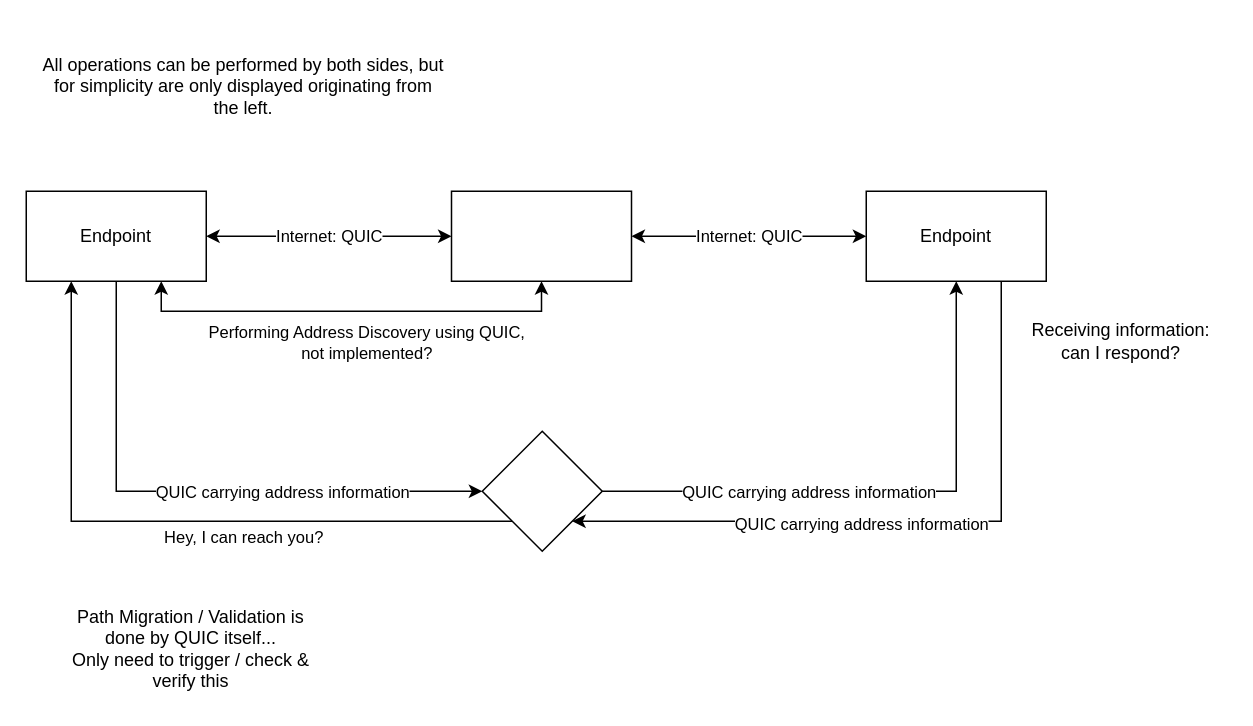
Some shapes in this 1253 by 726 pixel diagram are drawn without their labels. Here are the shapes that lost their labels. From the top down, the centre of each, then its label:
At pixel 541 235: "STUN / TURN Server".
At pixel 541 490: "Path Probing".
